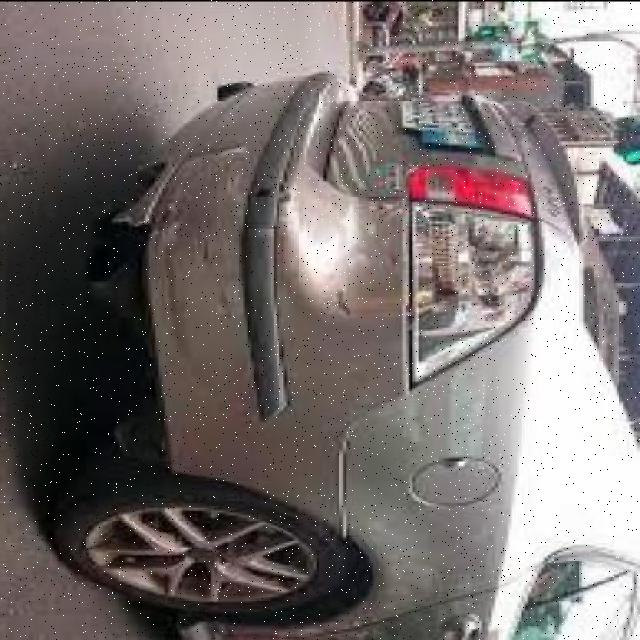damage: (111, 126, 399, 339)
